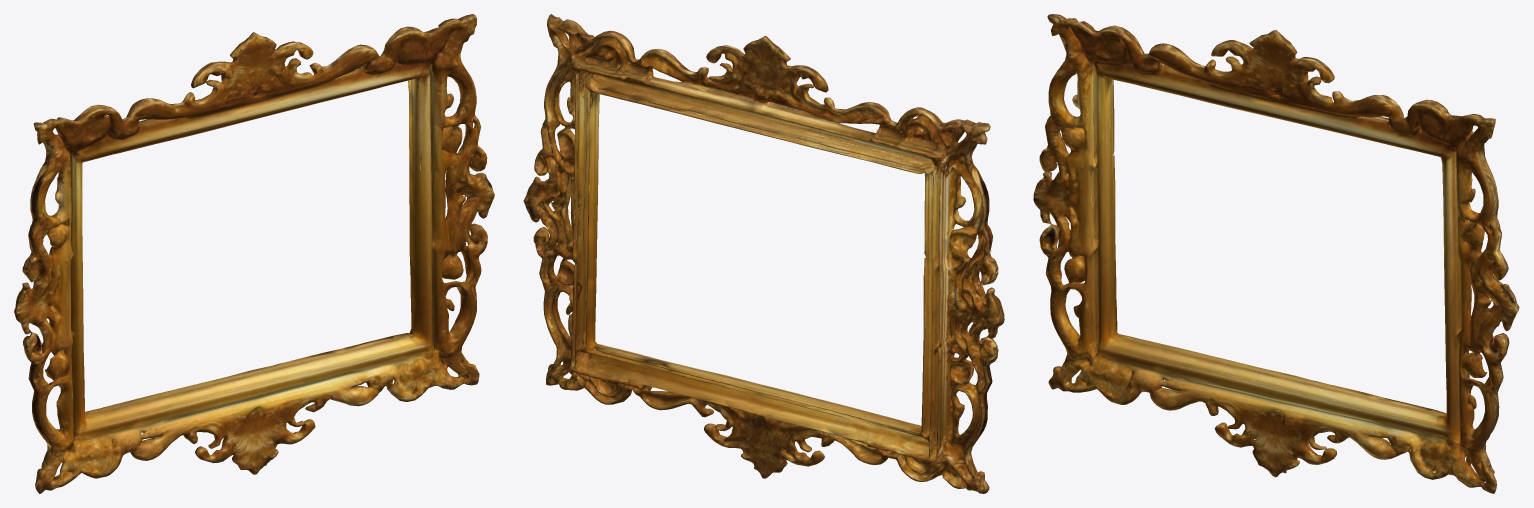
The model's file is starPicture.glb.
The picture shows the model from 3 angles, left to right: view 1: azimuth 30°, elevation 25°; view 2: azimuth 150°, elevation 25°; view 3: azimuth 330°, elevation 25°; orthographic projection.
Bounding box in the file's own units: 1.13 × 1 × 0.0675.
1 material, 1 textured.
